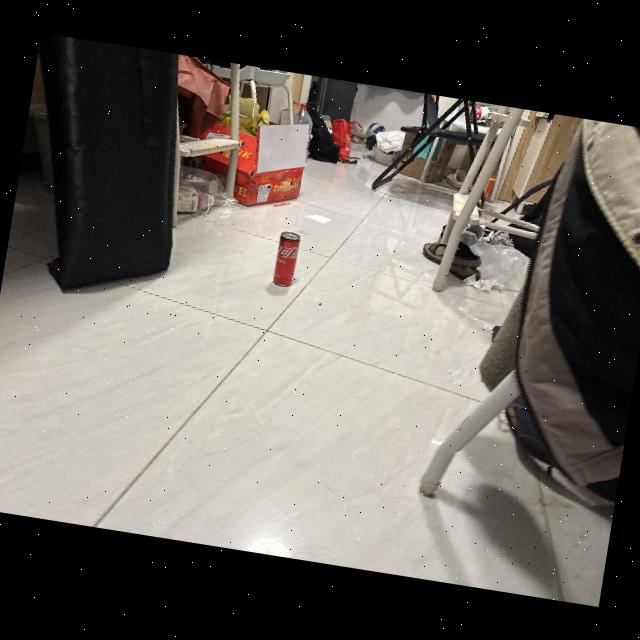Cola: (266, 224, 310, 292)
